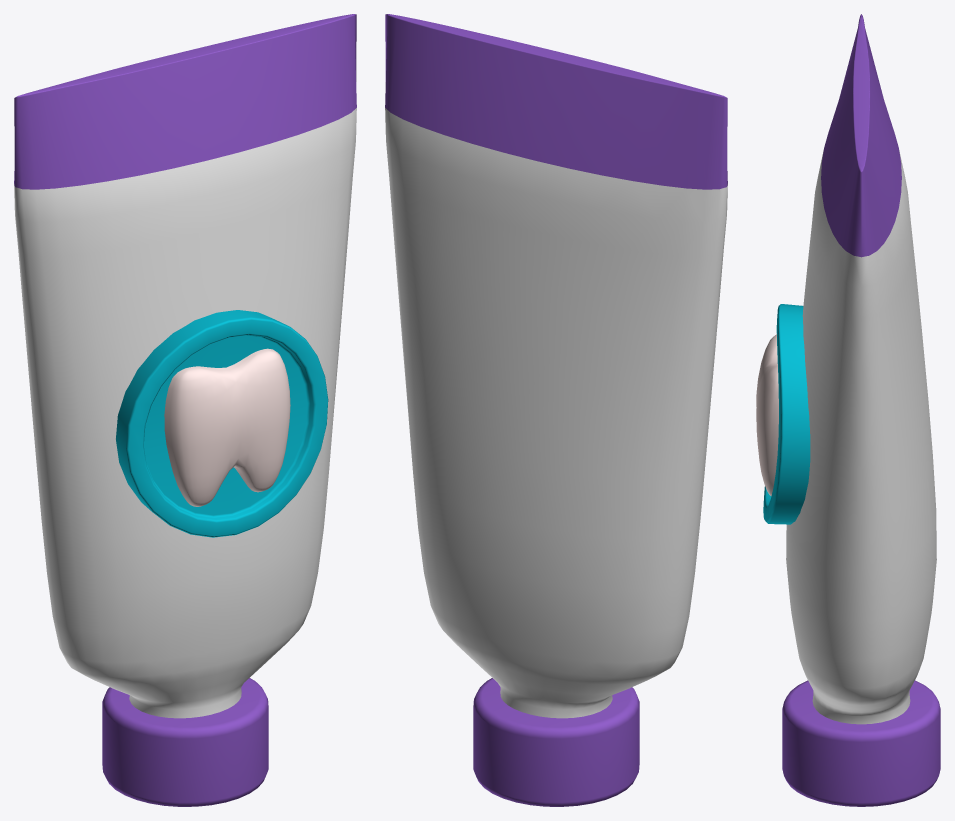
Rendered from Public_20_Toothpaste_1.glb.
The picture shows the model from 3 angles, left to right: view 1: azimuth 30°, elevation 25°; view 2: azimuth 150°, elevation 25°; view 3: azimuth 270°, elevation 25°; orthographic projection. The views are drawn at different scales.
Visible parts, largest first — view 1: Public_20_Toothpaste_1; view 2: Public_20_Toothpaste_1; view 3: Public_20_Toothpaste_1.
Part boxes in pixels (x1,y1,x2,y2): Public_20_Toothpaste_1: (14, 14, 356, 806); Public_20_Toothpaste_1: (385, 14, 727, 806); Public_20_Toothpaste_1: (756, 14, 940, 806).
Size of the model in its own units: 2.6 by 5.23 by 1.28.
1 material, 1 textured.
